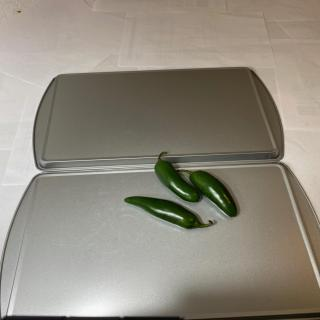Tomato: (176, 169, 238, 218), (124, 196, 213, 230), (154, 151, 200, 203)
